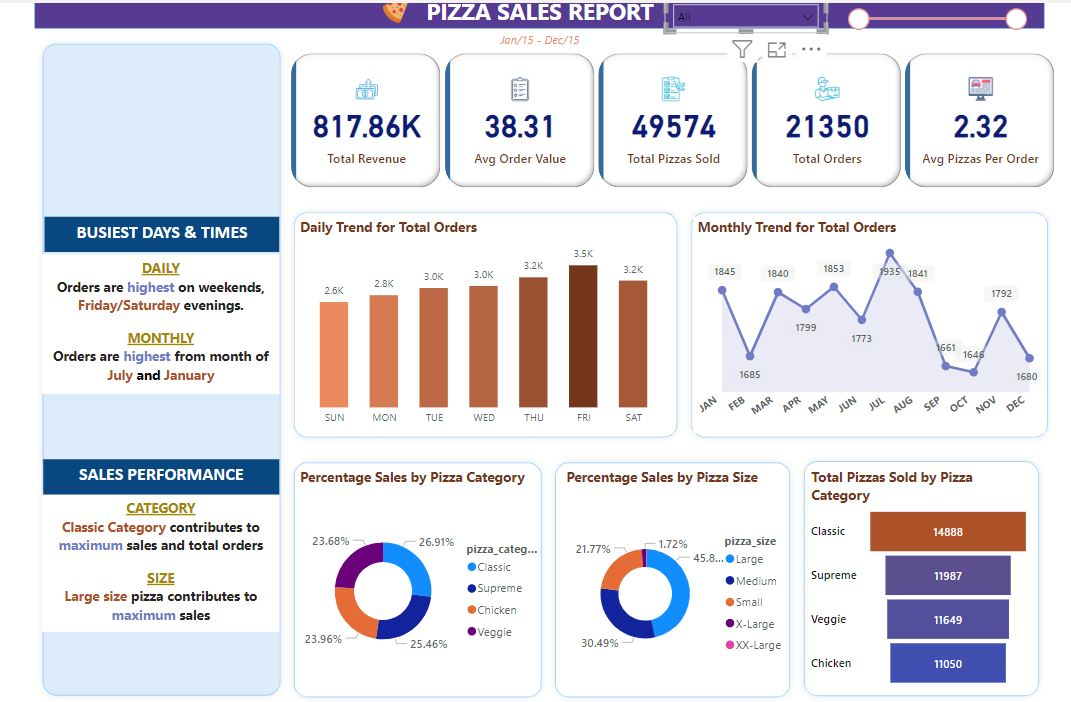

The dashboard page shown, as its layout file describes it:
{"tool":"powerbi","page":{"name":"Page 1","canvas":[1280,880],"ordinal":0},"visuals":[{"type":"cardVisual","fields":{"Data":["pizza_sales.Total Revenue","pizza_sales.Avg Order Value","pizza_sales.Total Pizzas Sold","pizza_sales.Total Orders","pizza_sales.Avg Pizzas Per Order"]},"box":[341.7,108.3,910,168.3],"z":0},{"type":"shape","box":[44.5,19.5,1191,64],"z":1000},{"type":"textbox","box":[493.9,19.5,292.2,47.3],"z":2000},{"type":"textbox","box":[576,51.5,128,41.7],"z":3000},{"type":"image","box":[313,23.7,336.7,43.1],"z":4000},{"type":"shape","box":[341.7,291.7,468.3,281.7],"z":5000},{"type":"columnChart","title":"Daily Trend for Total Orders","fields":{"Category":["pizza_sales.Order Day"],"Y":["pizza_sales.Total Orders"]},"box":[351.7,305,445,255],"z":6000},{"type":"shape","box":[810,291.7,436.7,281.7],"z":7000},{"type":"areaChart","title":"Monthly Trend for Total Orders","fields":{"Category":["pizza_sales.Order Month"],"Y":["pizza_sales.Total Orders"]},"box":[821.7,305,415,255],"z":8000},{"type":"shape","box":[341.7,586.7,308.3,293.3],"z":9000},{"type":"shape","box":[650,586.7,293.3,293.3],"z":10000},{"type":"shape","box":[943.3,585,293.3,293.3],"z":11000},{"type":"donutChart","title":"Percentage Sales by Pizza Category","fields":{"Category":["pizza_sales.pizza_category"],"Y":["pizza_sales.Total Revenue"]},"box":[351.7,600,298.3,271.7],"z":12000},{"type":"donutChart","title":"Percentage Sales by Pizza Size","fields":{"Y":["pizza_sales.Total Revenue"],"Category":["pizza_sales.pizza_size"]},"box":[666.7,600,276.7,278.3],"z":13000},{"type":"funnel","title":"Total Pizzas Sold by Pizza Category","fields":{"Category":["pizza_sales.pizza_category"],"Y":["pizza_sales.Total Pizzas Sold"]},"box":[955,600,268.3,265],"z":14000},{"type":"shape","box":[45,93.3,296.7,785],"z":15000},{"type":"textbox","box":[56,305.1,277.1,41.3],"z":16000},{"type":"textbox","box":[53.1,349.3,280.1,165.1],"z":17000},{"type":"textbox","box":[53.1,632.4,280.1,162.1],"z":18000},{"type":"textbox","box":[54.5,591.1,278.6,41.3],"z":19000},{"type":"slicer","fields":{"Values":["pizza_sales.pizza_category"]},"box":[796.5,23.5,191.8,62.4],"z":20000},{"type":"slicer","fields":{"Values":["pizza_sales.order_date"]},"box":[988.2,0,235.3,114.1],"z":21000}]}

Visuals, with their boxes on the page's 1280x880 design canvas (x1, y1, x2, y2). These are canvas units, not pixel positions in the 1071x702 screenshot, which may show the page scaled, cropped or inside an application window:
cardVisual - pizza_sales.Total Revenue x pizza_sales.Avg Order Value: x1=342 y1=108 x2=1252 y2=277
shape: x1=44 y1=20 x2=1236 y2=84
textbox: x1=494 y1=20 x2=786 y2=67
textbox: x1=576 y1=52 x2=704 y2=93
image: x1=313 y1=24 x2=650 y2=67
shape: x1=342 y1=292 x2=810 y2=573
"Daily Trend for Total Orders" columnChart: x1=352 y1=305 x2=797 y2=560
shape: x1=810 y1=292 x2=1247 y2=573
"Monthly Trend for Total Orders" areaChart: x1=822 y1=305 x2=1237 y2=560
shape: x1=342 y1=587 x2=650 y2=880
shape: x1=650 y1=587 x2=943 y2=880
shape: x1=943 y1=585 x2=1237 y2=878
"Percentage Sales by Pizza Category" donutChart: x1=352 y1=600 x2=650 y2=872
"Percentage Sales by Pizza Size" donutChart: x1=667 y1=600 x2=943 y2=878
"Total Pizzas Sold by Pizza Category" funnel: x1=955 y1=600 x2=1223 y2=865
shape: x1=45 y1=93 x2=342 y2=878
textbox: x1=56 y1=305 x2=333 y2=346
textbox: x1=53 y1=349 x2=333 y2=514
textbox: x1=53 y1=632 x2=333 y2=794
textbox: x1=54 y1=591 x2=333 y2=632
slicer - pizza_sales.pizza_category: x1=796 y1=24 x2=988 y2=86
slicer - pizza_sales.order_date: x1=988 y1=0 x2=1224 y2=114
